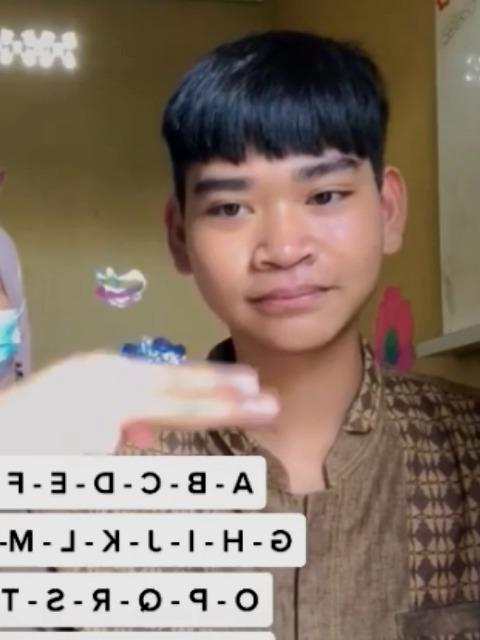H: (0, 353, 284, 453)
